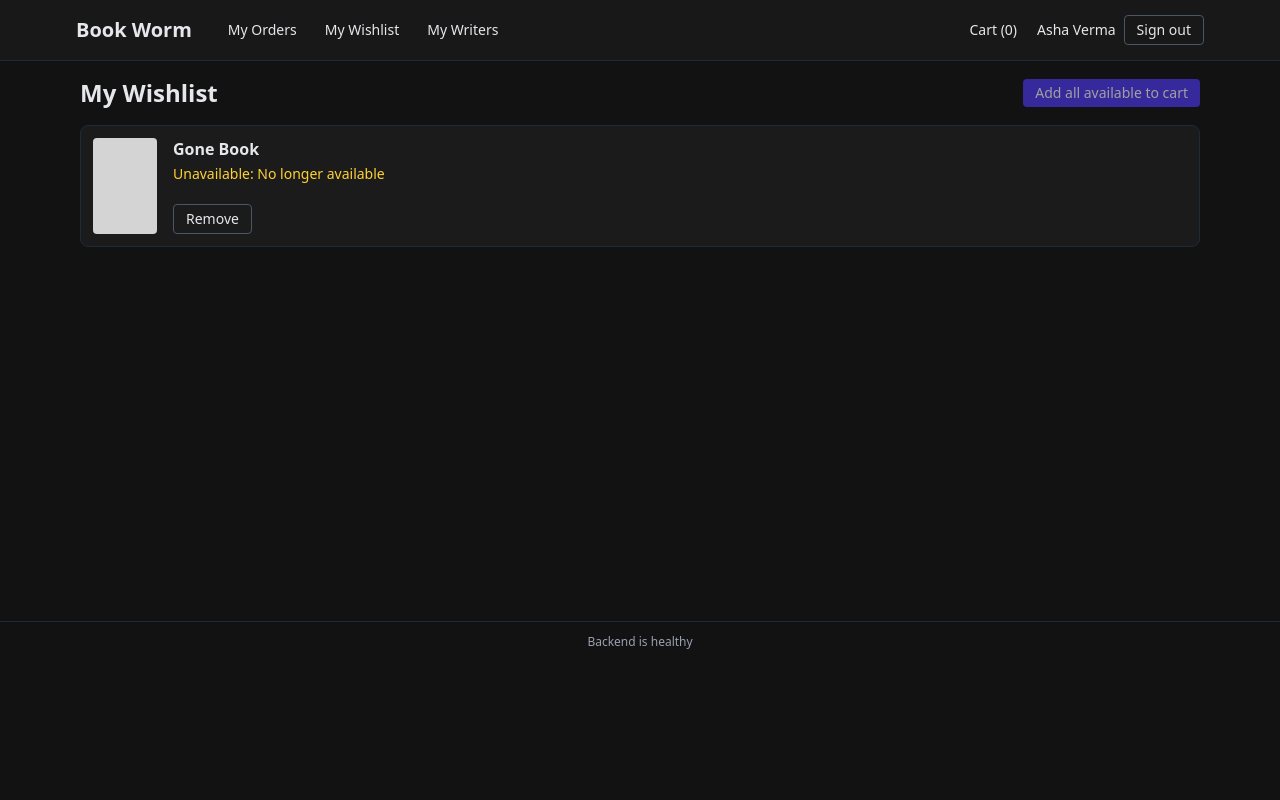
Scenario: My Wishlist page › shows an inactive book with only title and cover, and lets it be removed
expect the heading "Gone Book" is shown: met, box [173,138,259,160]
expect the text "Unavailable: No longer available" is shown: met, box [173,164,385,183]
Step 1. Click the button with aria-label "Remove Gone Book from wishlist" → (212, 219), box [173,204,252,234]
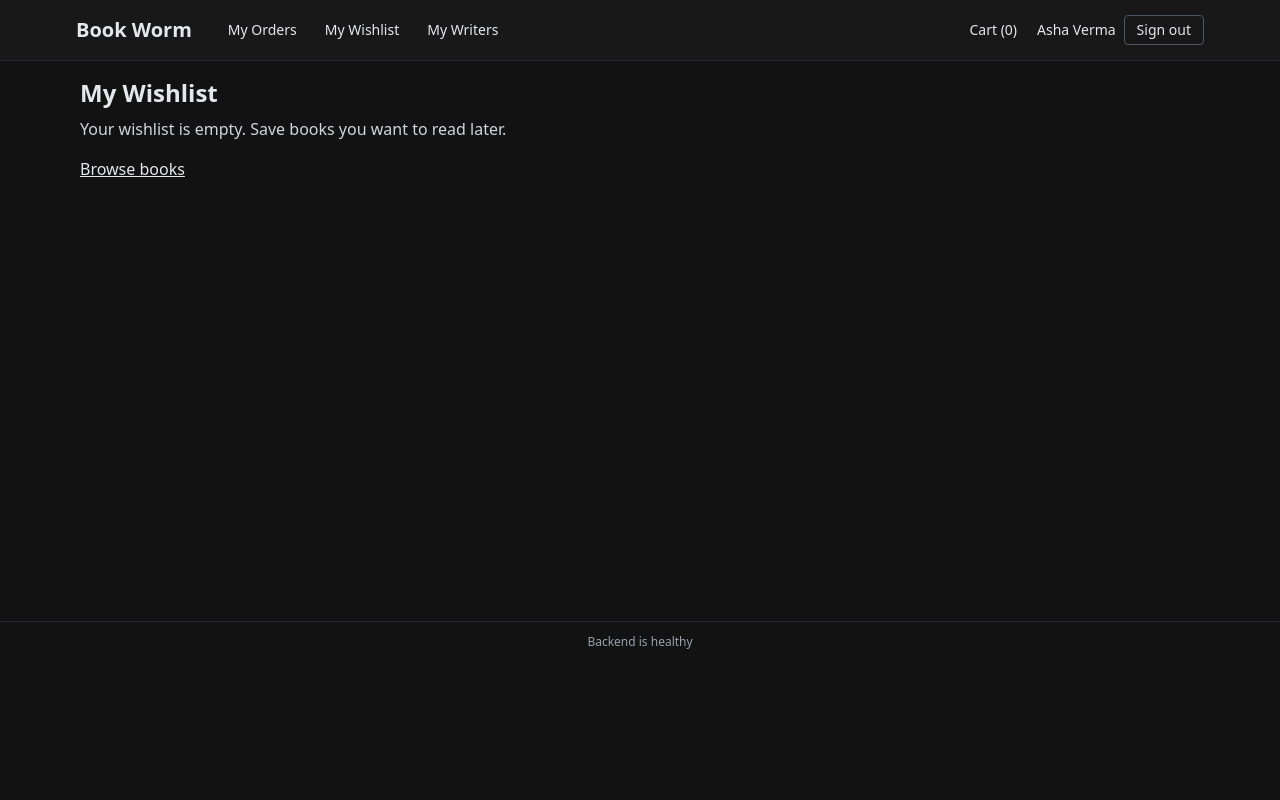
expect the text "Your wishlist is empty. Save books you want to read later." is shown: met, box [80,118,506,140]
